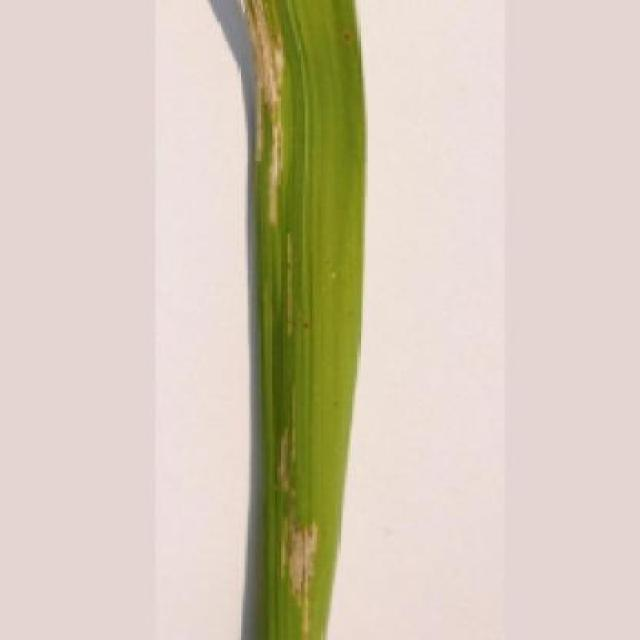Brown_Spot: (233, 0, 372, 640)
